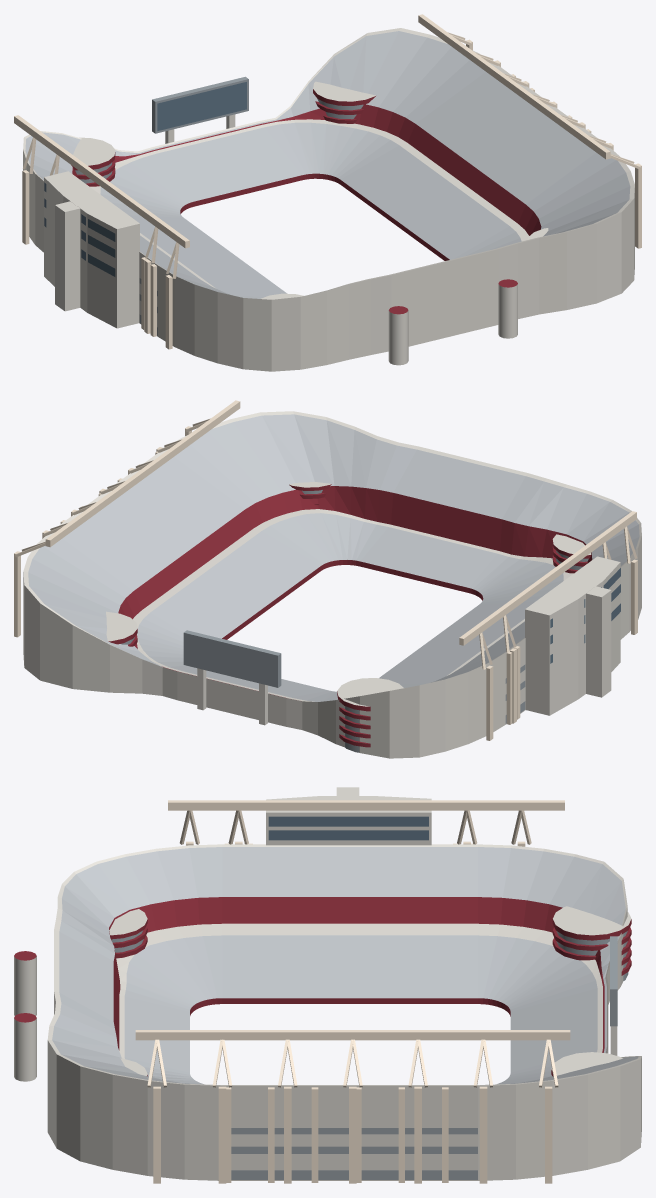
Rendered from cola-williams-brice-stadium.glb.
3 renders of one model, top to bottom at view 1: azimuth 30°, elevation 25°; view 2: azimuth 150°, elevation 25°; view 3: azimuth 270°, elevation 25°, orthographic. The views are drawn at different scales.
Parts seen in each view (by area): view 1: Williams-Brice Stadium; view 2: Williams-Brice Stadium; view 3: Williams-Brice Stadium.
Part boxes in pixels (bbox=[...]): Williams-Brice Stadium: bbox=[14, 14, 641, 371]; Williams-Brice Stadium: bbox=[14, 400, 641, 758]; Williams-Brice Stadium: bbox=[14, 787, 641, 1183].
Size of the model in its own units: 245 by 52.4 by 231.
